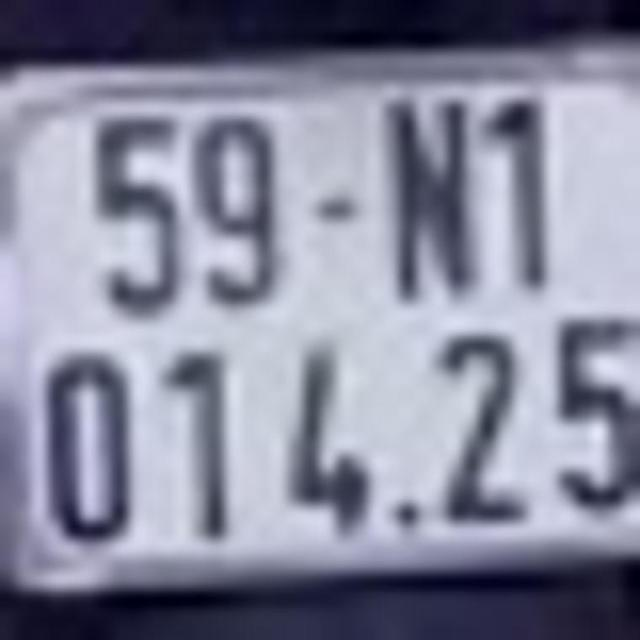0: (44, 346, 136, 543)
1: (162, 344, 233, 541), (486, 94, 555, 290)
2: (438, 326, 530, 526)
4: (288, 341, 371, 536)
5: (91, 110, 184, 319), (553, 308, 640, 516)
9: (194, 114, 278, 309)
N: (387, 95, 477, 304)
